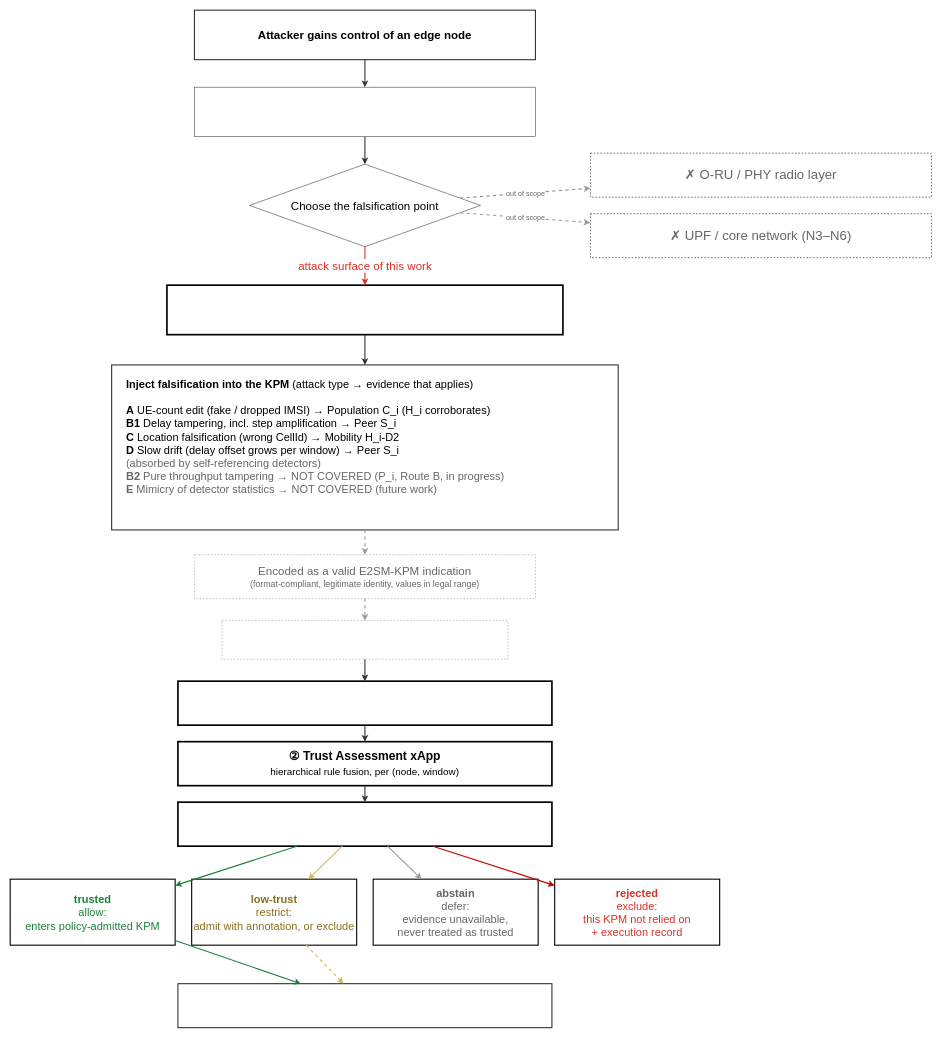
The diagram is 941 pixels wide and 1037 high, and some of its shapes have lost their labels. The shapes that lost their labels are listed below. From the top down, each one's box as (x1, y1, x2, y2) in pixels, then its label:
(194, 87, 535, 137): E2 Setup completes — identity authenticated (IPsec / E2AP format intact)
(166, 284, 563, 335): ✓ KPM assembly point inside the O-DU (E2 node) — THE ATTACK SURFACE
(221, 620, 508, 659): Reported periodically to the Near-RT RIC
(177, 680, 552, 726): ① Detection xApp consistency evidence: C_i / S_i / H_i
(177, 801, 552, 847): ③ Policy Enforcement xApp admission action per trust state
(177, 983, 552, 1028): Cooperating consumer (RC xApp) uses policy-admitted KPM only
